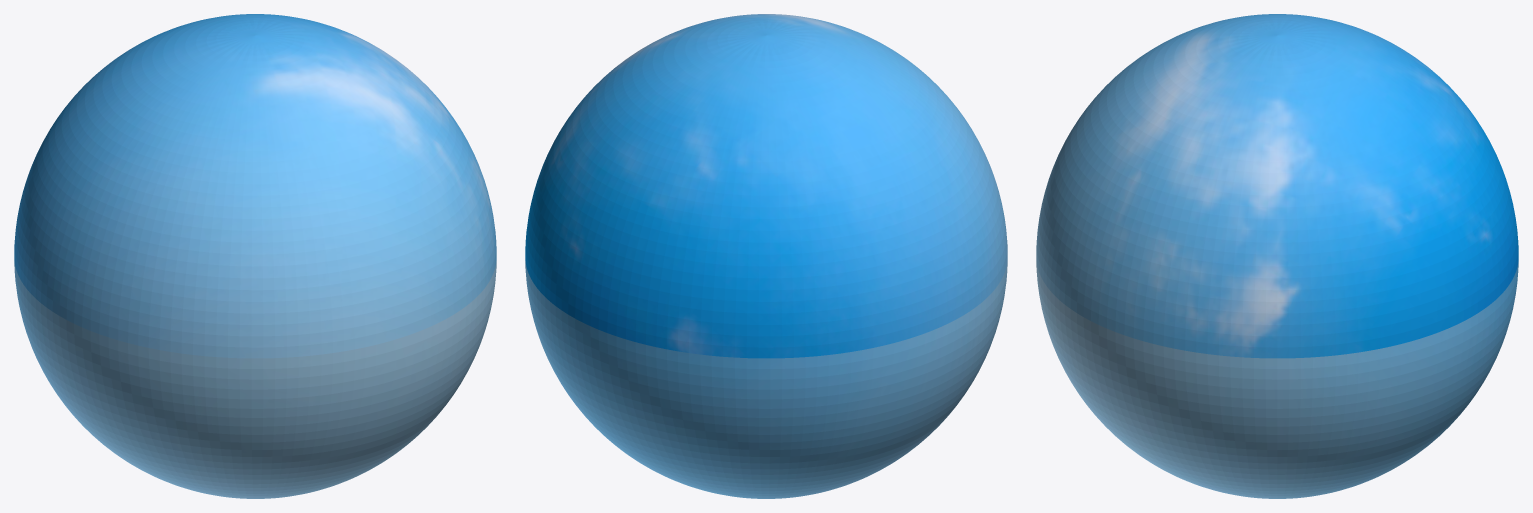
File: skysphereblue.obj
3 views of the same model, side by side, from view 1: azimuth 30°, elevation 25°; view 2: azimuth 150°, elevation 25°; view 3: azimuth 270°, elevation 25° (orthographic).
Parts seen in each view (by area): view 1: Sphere; view 2: Sphere; view 3: Sphere.
Boxes of the visible parts, box(x1,y1,x2,y2) form: Sphere: box(14, 14, 496, 498); Sphere: box(525, 14, 1007, 498); Sphere: box(1036, 14, 1518, 498).
Size of the model in its own units: 1.98 by 2 by 1.98.
1 material, 1 textured.
